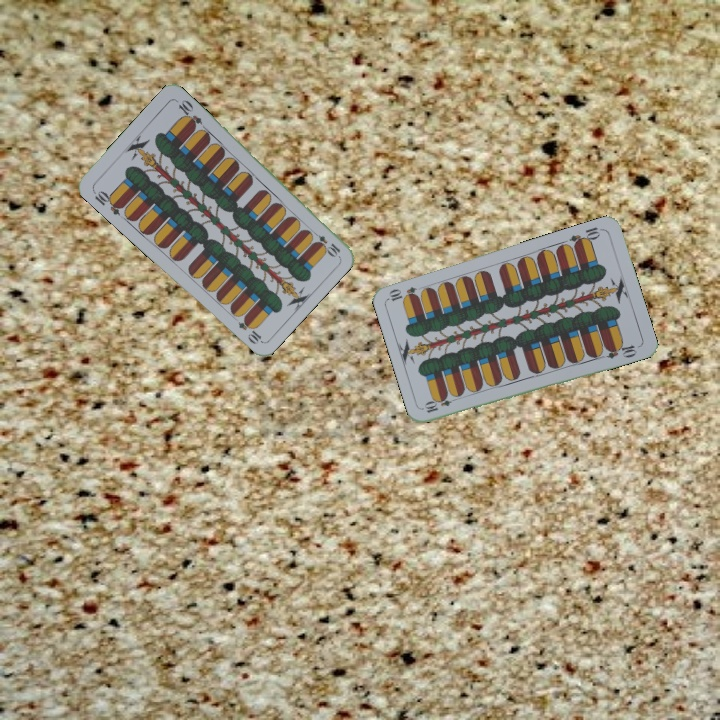E10: (89, 186, 126, 218), (307, 227, 343, 259), (566, 223, 605, 249), (421, 392, 461, 416)
